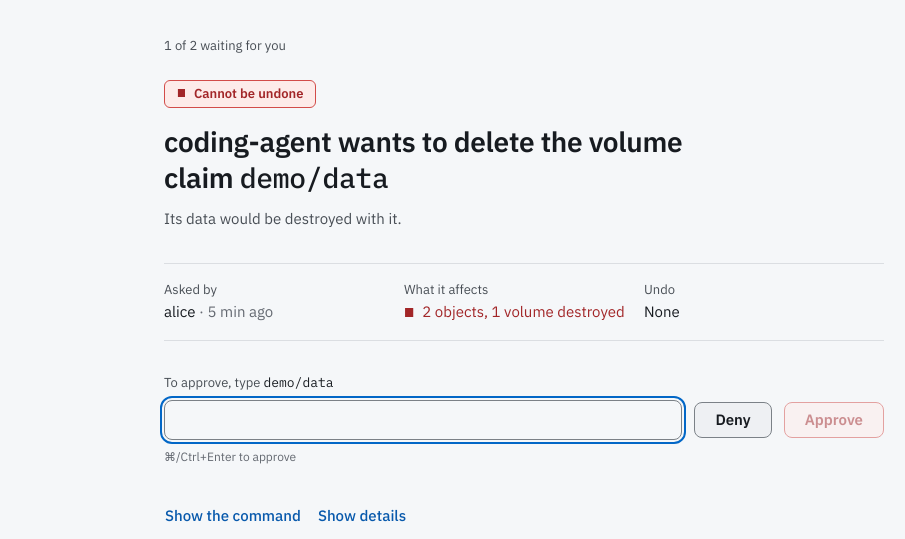
Scenario: Waiting › after a decision on a narrow screen the next one is shown and focused
Expected: the text "1 of 2 waiting for you" is shown, [164,37,286,54]
Click the button "Deny": click(733, 420) [694,402,772,438]
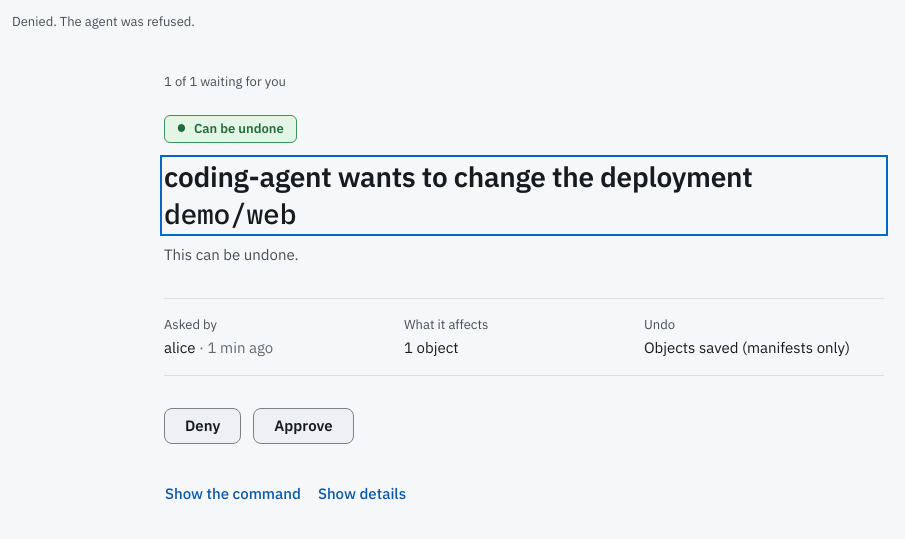
Result: the text "1 of 1 waiting for you" is shown at [164,72,286,90]
Result: the heading shows "demo/web" at [164,195,296,232]
